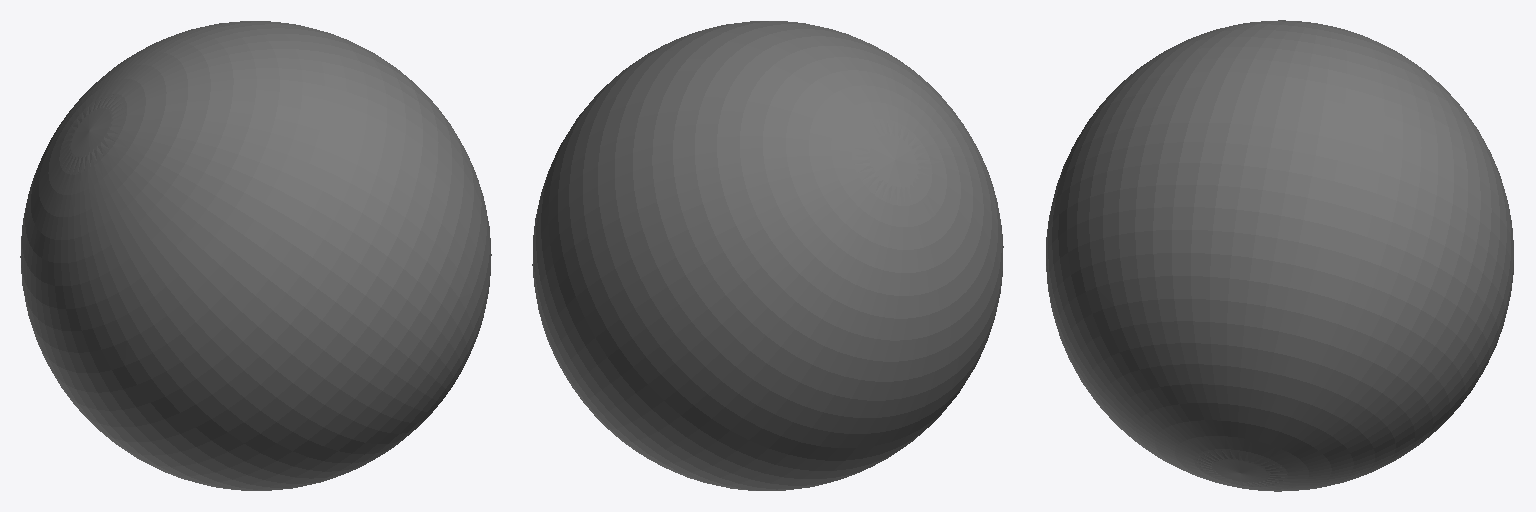
robot.urdf — 5_ball:
<?xml version="1.0"?>
<robot name="5_ball">
  <link name="base">
    <visual>
      <geometry>
        <mesh filename="5_ball.obj" scale="1 1 1"/>
      </geometry>
      <material name="gray">
        <color rgba="0.5 0.5 0.5 1.0"/>
      </material>
    </visual>
    <collision>
      <geometry>
        <mesh filename="5_ball.obj" scale="1 1 1"/>
      </geometry>
    </collision>
    <inertial>
      <mass value="1.000"/>
      <inertia
          ixx="0.001031" ixy="0.000000" ixz="0.000000"
          iyy="0.001034" iyz="0.000000"
          izz="0.001031"/>
      <origin xyz="-0.086861 0.037433 0.833091" rpy="0 0 0"/>
    </inertial>
  </link>
</robot>

--- Facts derived from the render (not from the file) ---
Views: 3 orthographic renders of the robot side by side, from view 1: azimuth 30°, elevation 25°; view 2: azimuth 150°, elevation 25°; view 3: azimuth 270°, elevation 25°.
Model 5_ball with 1 links and 0 joints (none), rooted at base, posed all joints at 0.
Visible links, largest first — view 1: base; view 2: base; view 3: base.
Boxes of the visible links, x1,y1,x2,y2 form: base: [20, 21, 491, 490]; base: [532, 21, 1003, 490]; base: [1046, 20, 1513, 491].
Size in the robot's own frame: 0.0788 by 0.0785 by 0.0788 metres.
Meshes: 1 distinct files referenced, 1 mesh visuals loaded (1 OBJ).
